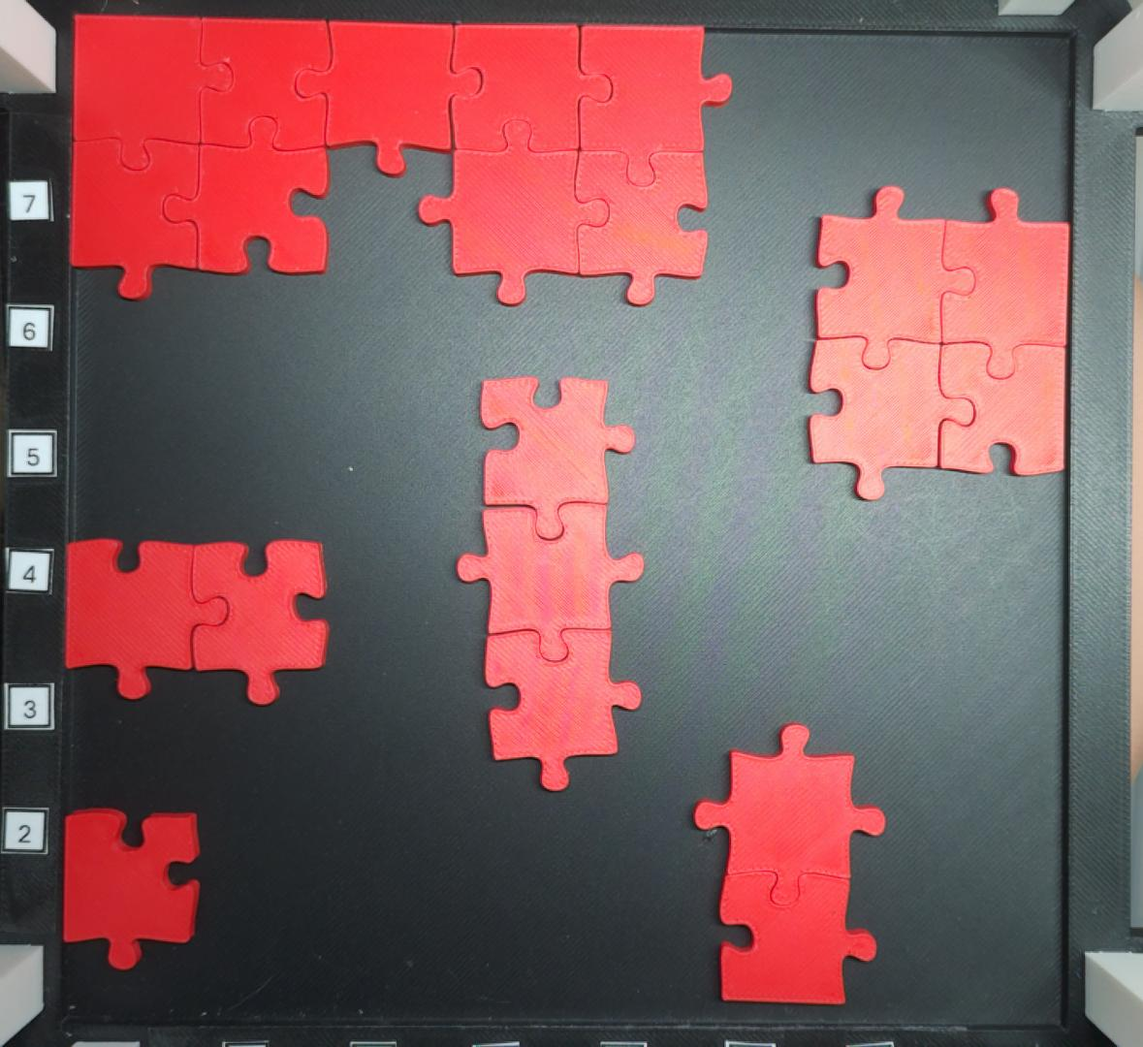p_1: (64, 806, 200, 970)
p_2: (692, 724, 884, 1005), (65, 537, 329, 705)
p_3: (457, 377, 647, 791)
p_4: (808, 185, 1070, 501)
p_m: (72, 12, 735, 309)
